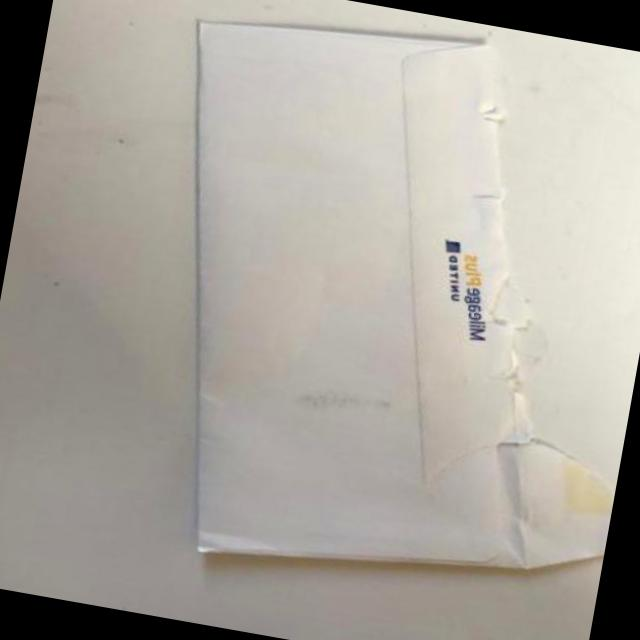cardboard paper: (194, 20, 611, 565)
